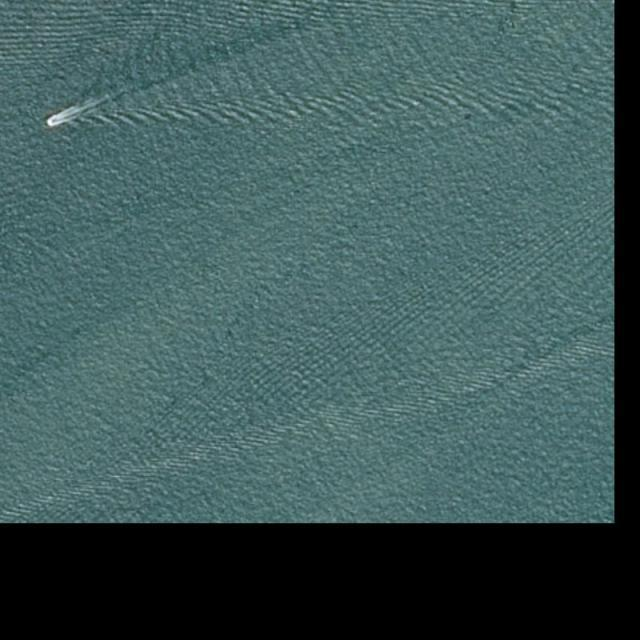ship: (49, 118, 59, 126)
